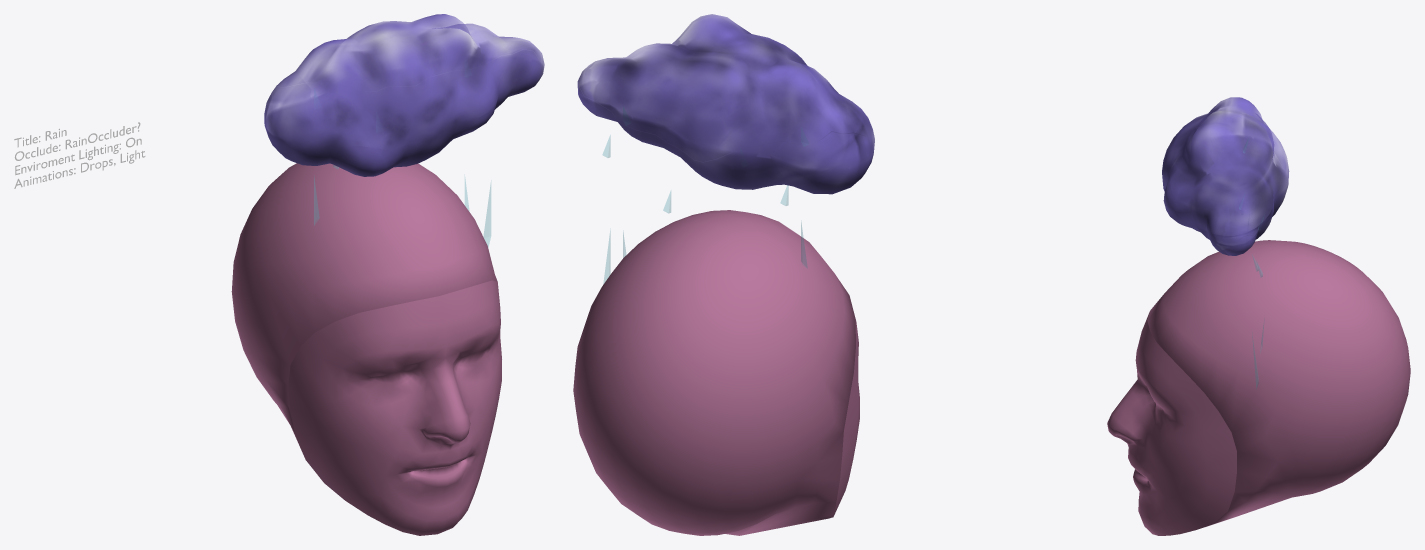
The model's file is Rain2.glb.
The picture shows the model from 3 angles, left to right: view 1: azimuth 30°, elevation 25°; view 2: azimuth 150°, elevation 25°; view 3: azimuth 270°, elevation 25°; orthographic projection. The views are drawn at different scales.
Visible parts, largest first — view 1: OccluderFace, OccluderHead, RainCloud, _Rain; view 2: OccluderHead, RainCloud, OccluderFace, RainDrops; view 3: OccluderHead, OccluderFace, RainCloud.
Part boxes in pixels (x1,y1,x2,y2): OccluderFace: (288,280,501,535); OccluderHead: (231,163,497,454); RainCloud: (264,14,544,176); _Rain: (14,122,145,188); OccluderHead: (573,210,855,535); RainCloud: (577,14,874,194); OccluderFace: (834,313,859,514); RainDrops: (602,107,808,283); OccluderHead: (1147,240,1410,528); OccluderFace: (1107,312,1236,535); RainCloud: (1162,97,1289,255).
Bounding box in the file's own units: 38.46 × 35.56 × 23.41.
3 materials, 1 textured.
